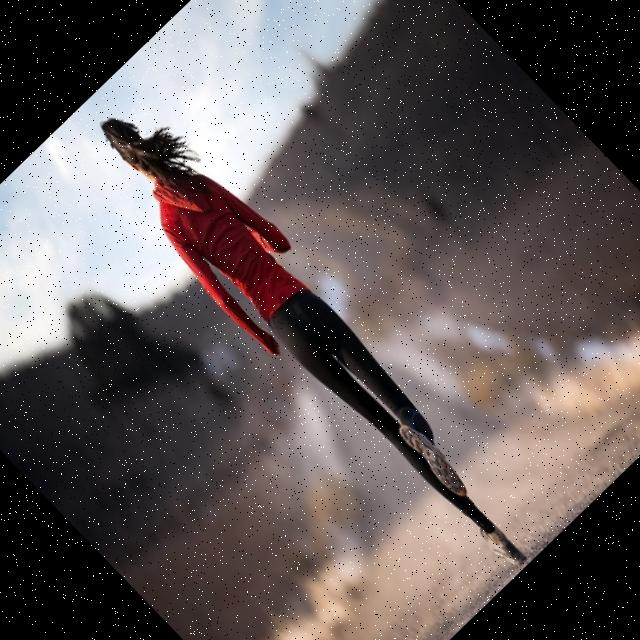Person: (71, 86, 562, 590)
